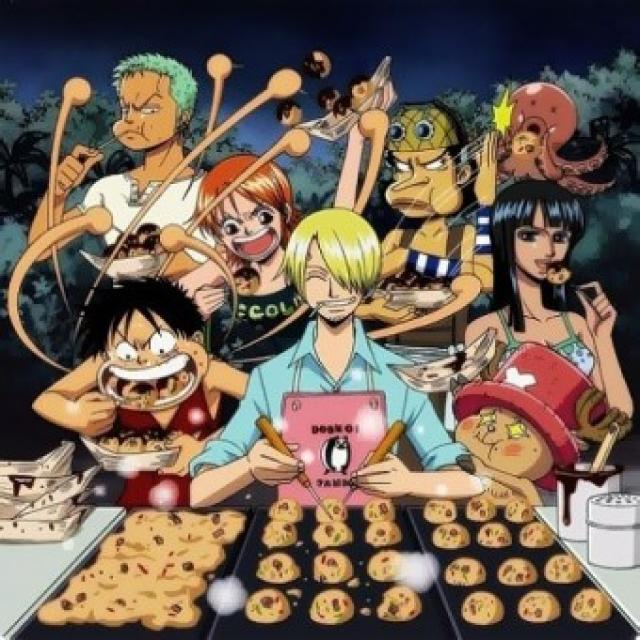Chyopa: (426, 327, 630, 492)
Luffy: (62, 274, 232, 431)
Nami: (193, 146, 300, 267)
NicoRobin: (469, 173, 619, 316)
Sangdi: (276, 210, 388, 332)
Usopp: (353, 88, 488, 220)
Zoro: (78, 40, 214, 165)
